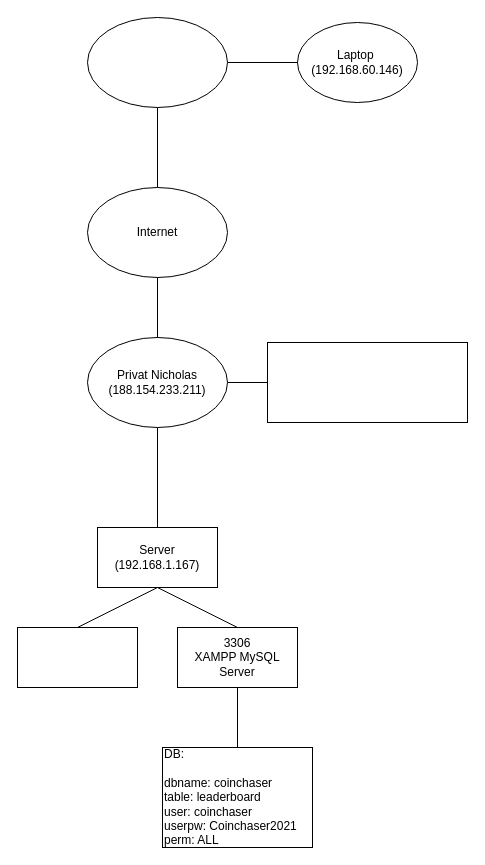
Image size: 485x865. Some labels were removed from this diagram. Here are the shapes that lost their labels. From the top down, the centre of each, then its label:
At pixel 157 62: "it-tf.local".
At pixel 367 382: "Opened Ports: 3306: 192.168.1.167 (TCP-UDP) 80: 192.168.1.167 (TCP-UDP)".
At pixel 77 657: "80, 443 XAMPP Apache Server".
